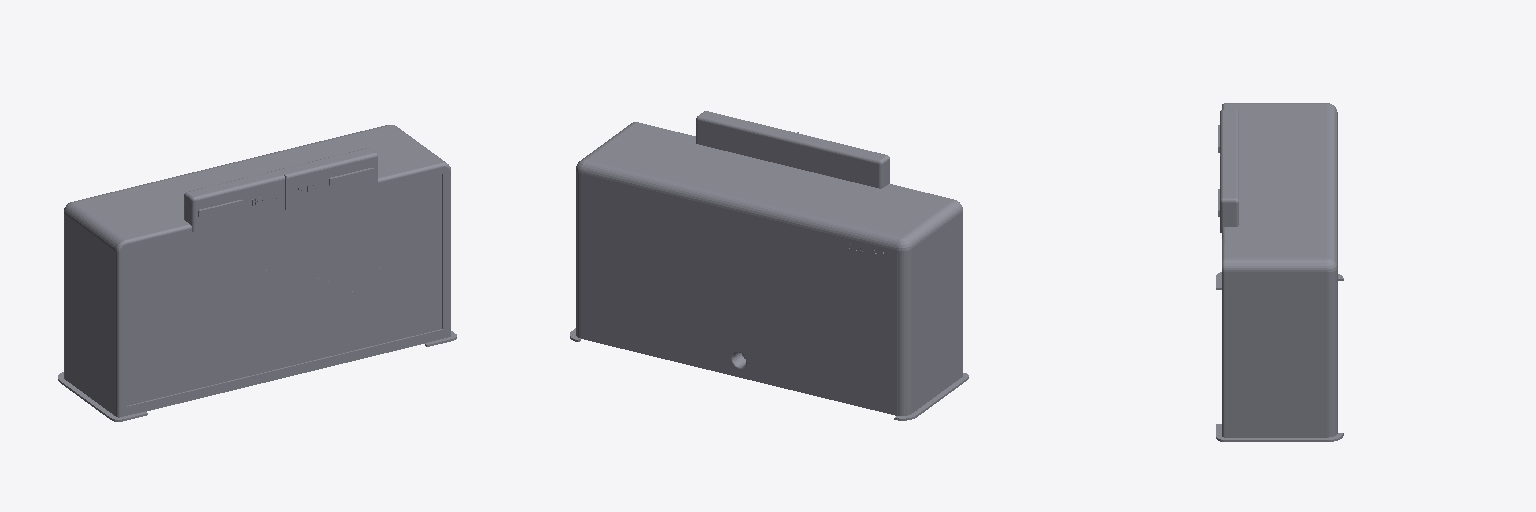
The model's file is clock.obj.
3 renders of one model, left to right at view 1: azimuth 30°, elevation 25°; view 2: azimuth 150°, elevation 25°; view 3: azimuth 270°, elevation 25°, orthographic.
Parts seen in each view (by area): view 1: Part__Feature; view 2: Part__Feature; view 3: Part__Feature.
Boxes of the visible parts, box(x1,y1,x2,y2) form: Part__Feature: box(58, 125, 456, 421); Part__Feature: box(570, 111, 968, 420); Part__Feature: box(1216, 103, 1343, 441).
Bounding box in the file's own units: 113 × 64.05 × 36.2.